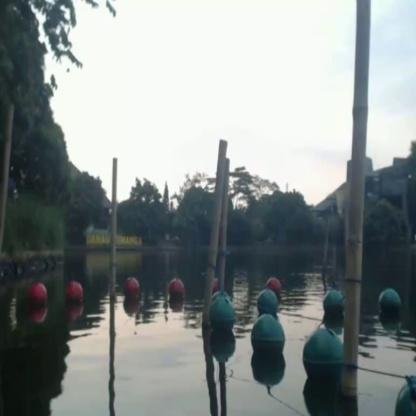green_buoy: (302, 327, 346, 388), (252, 322, 286, 364), (211, 296, 234, 336), (377, 286, 401, 324), (324, 288, 344, 323), (258, 292, 278, 315)
red_buoy: (30, 280, 50, 314), (68, 280, 85, 312), (122, 278, 140, 308), (170, 278, 184, 304), (262, 277, 280, 295)
